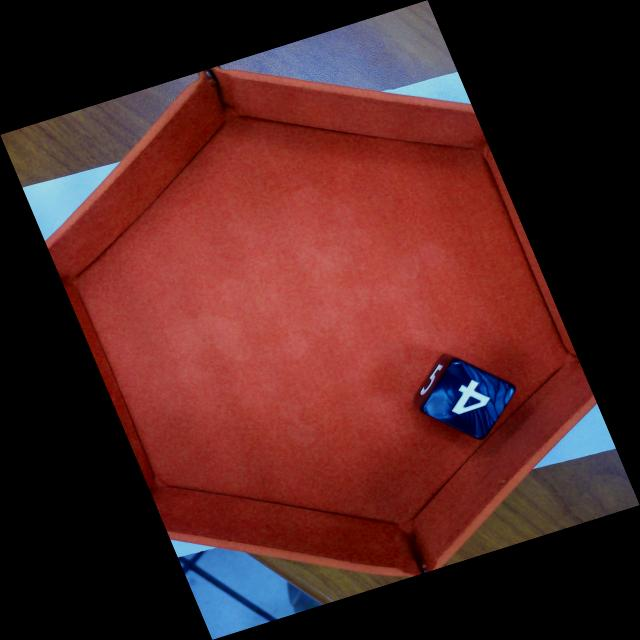dice: (420, 358, 516, 440)
